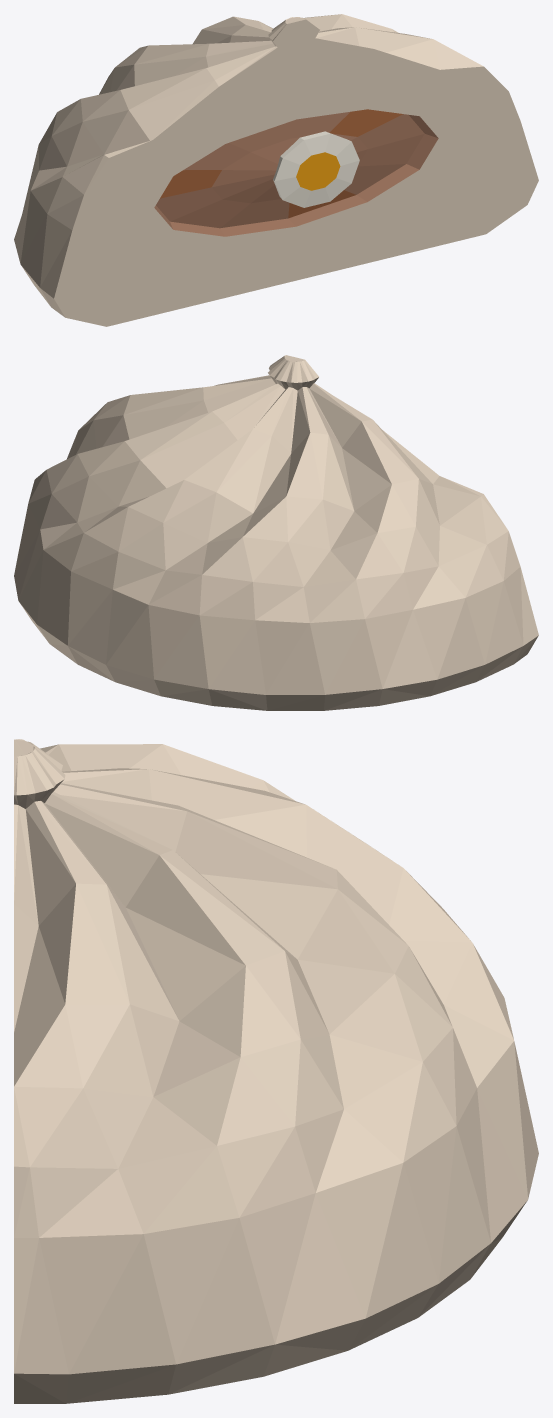
The model's file is SM_Cook_BaoCut_01.fbx.
3 views of the same model, one above another, from view 1: azimuth 30°, elevation 25°; view 2: azimuth 150°, elevation 25°; view 3: azimuth 270°, elevation 25° (orthographic). The views are drawn at different scales.
Parts seen in each view (by area): view 1: SM_Cook_BaoCut_01; view 2: SM_Cook_BaoCut_01; view 3: SM_Cook_BaoCut_01.
Part boxes in pixels (x1=…): SM_Cook_BaoCut_01: x1=14, y1=14, x2=538, y2=326; SM_Cook_BaoCut_01: x1=14, y1=355, x2=538, y2=710; SM_Cook_BaoCut_01: x1=14, y1=739, x2=538, y2=1403.
Bounding box in the file's own units: 0.0854 × 0.0435 × 0.0429.
1 material, 1 textured.
